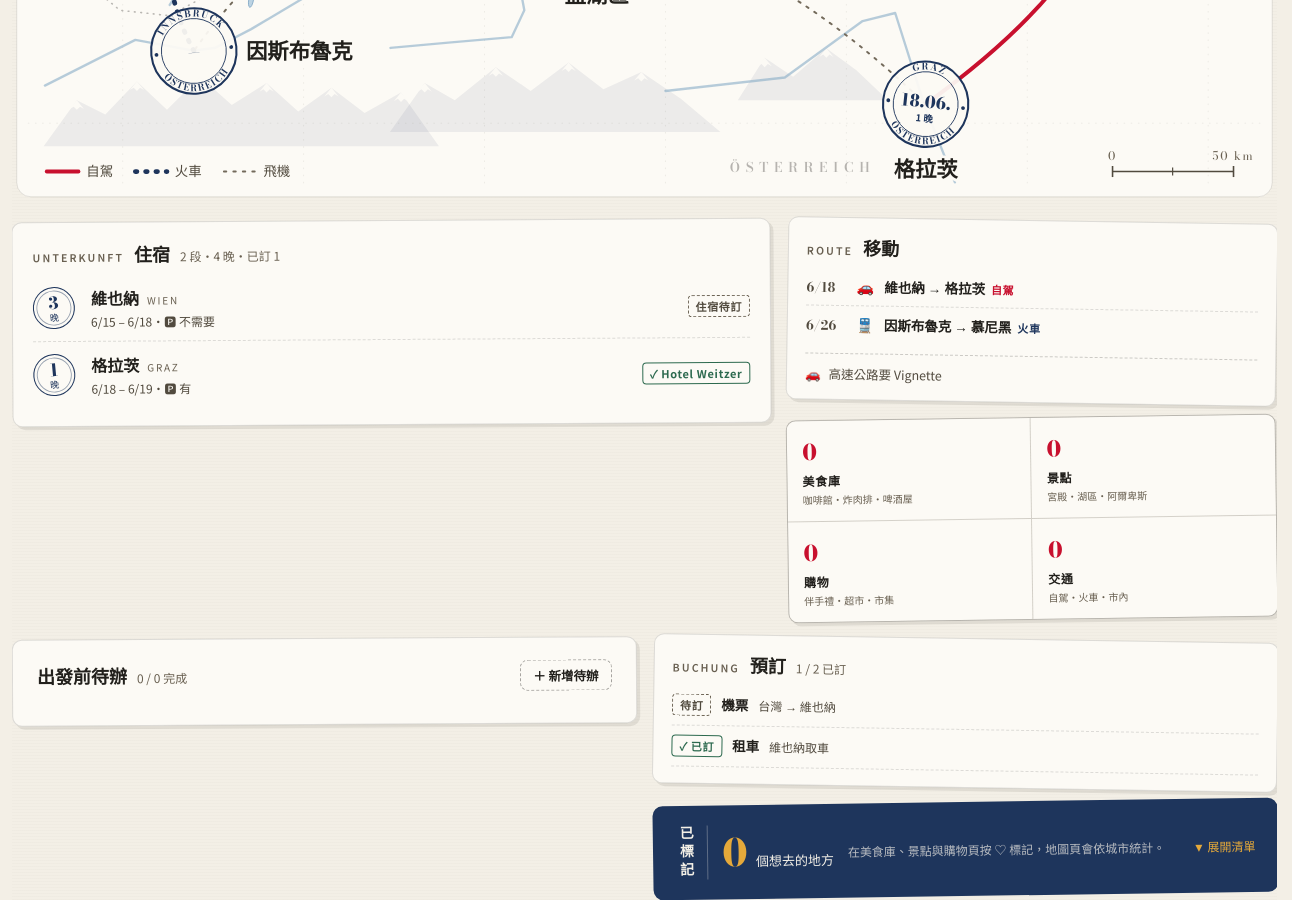
Test case: Home 新增出發前待辦 › 送出失敗顯示原因、輸入列留著
This screenshot has width=1292, height=900.
(page scrolled)
Click the button "＋ 新增待辦". click: (566, 675)
box: top-left (520, 659), bottom-right (612, 690)
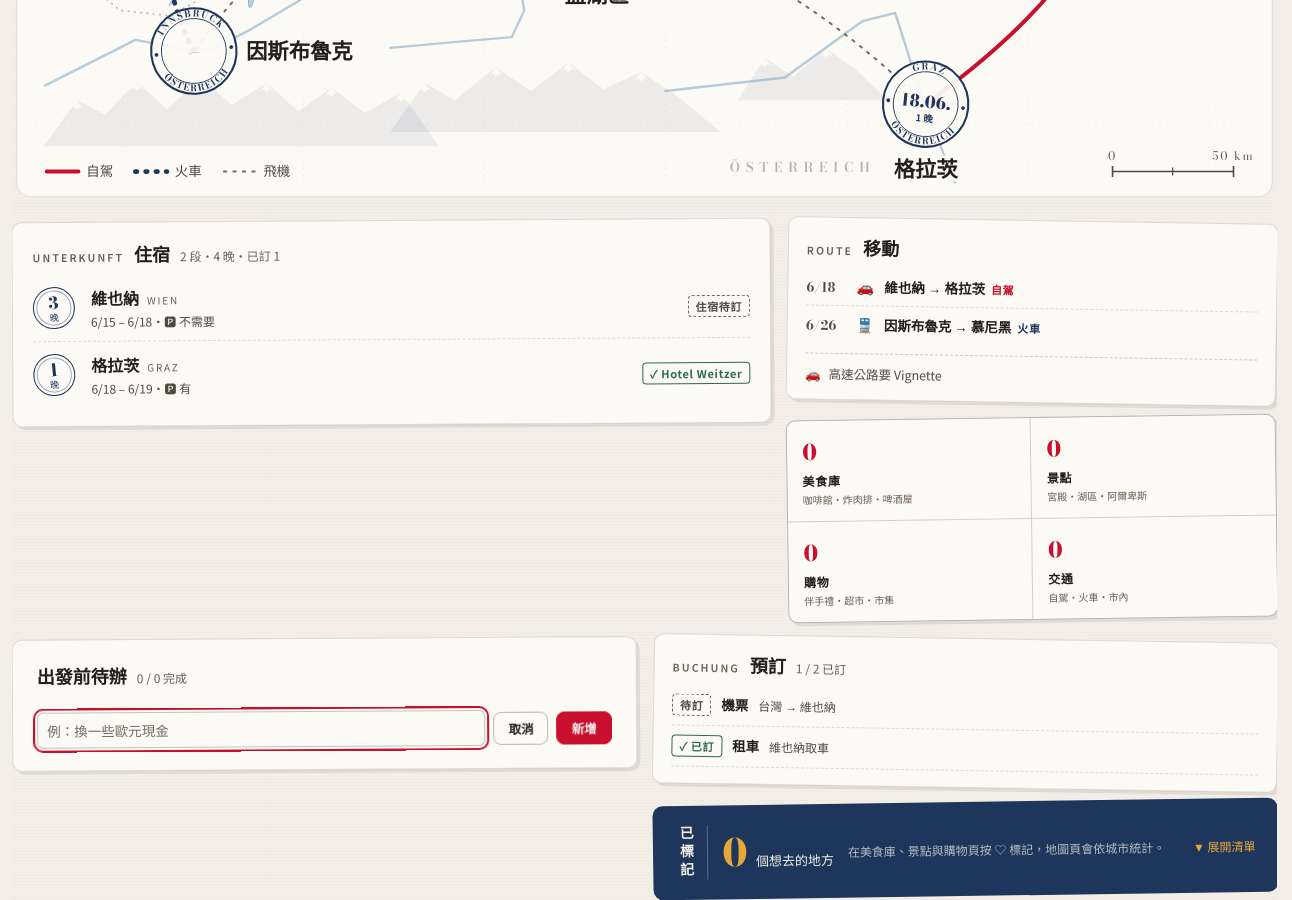
Type "訂機票" into the field named "待辦內容". click: (261, 729)
box: top-left (37, 710), bottom-right (486, 748)
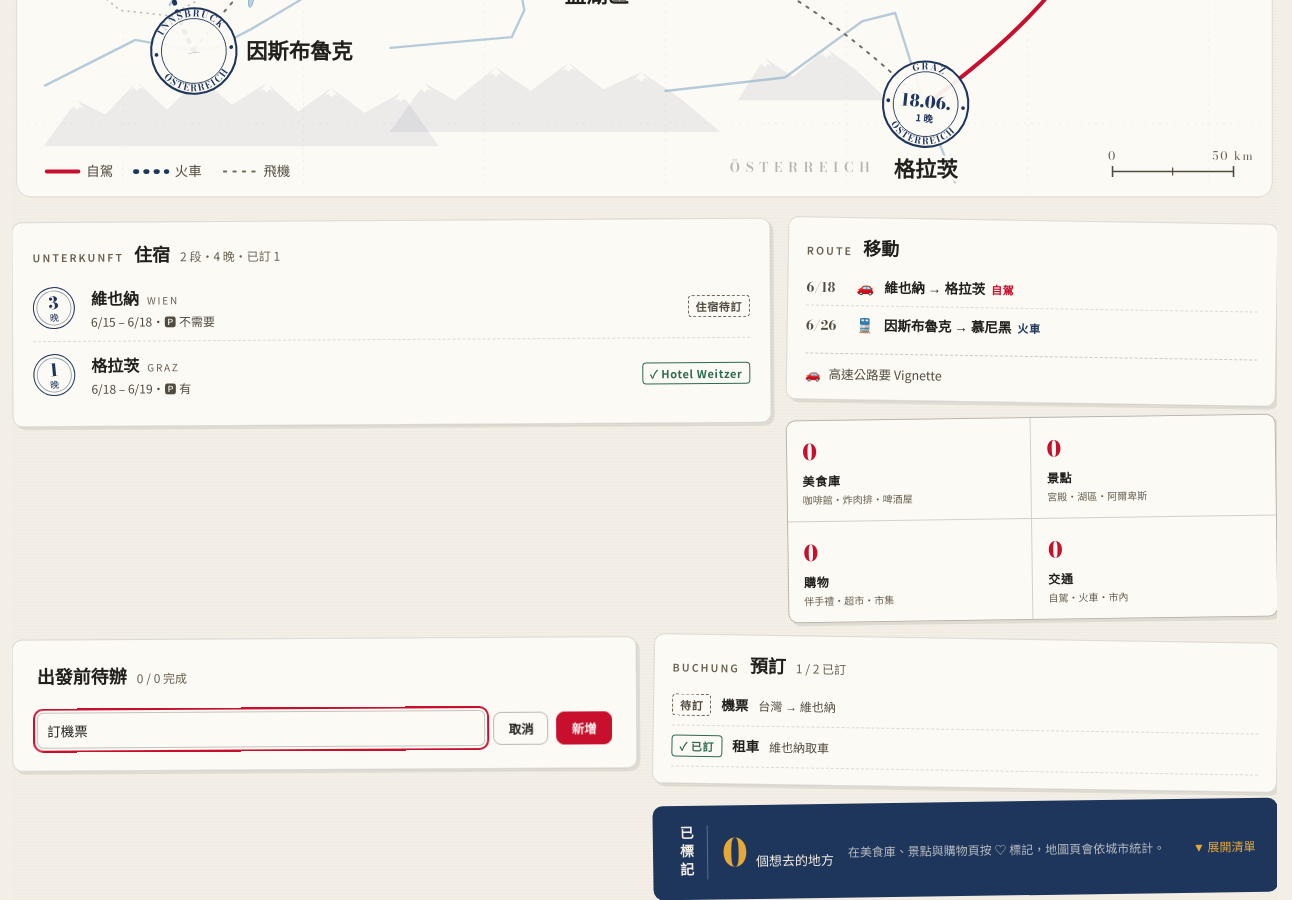
Submit the form named "新增待辦", box top-left (37, 709), bottom-right (612, 748)
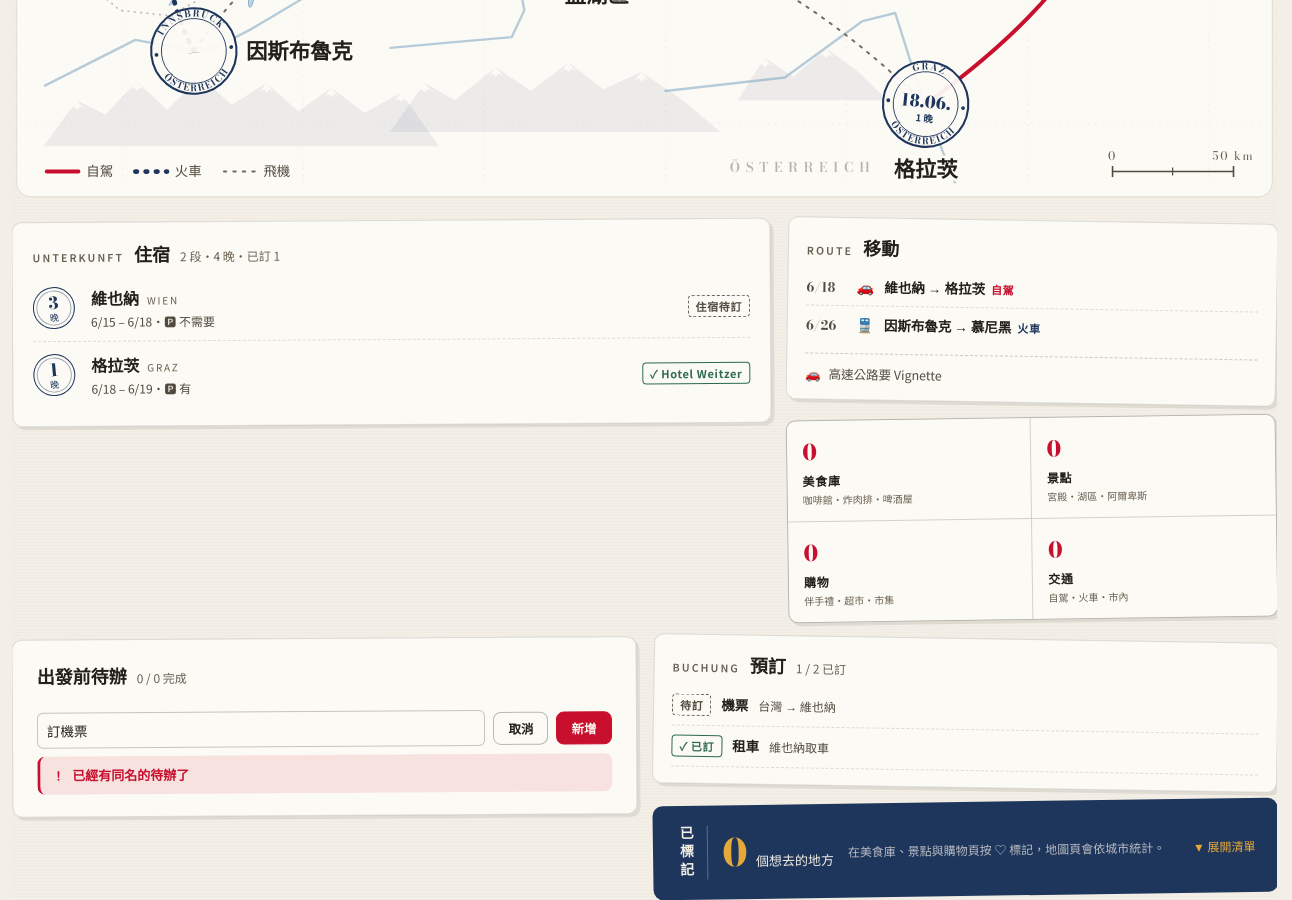
Now the form named "新增待辦" is shown, box top-left (37, 709), bottom-right (612, 794)
Now the message shows "已經有同名的待辦", box top-left (72, 764), bottom-right (189, 784)
